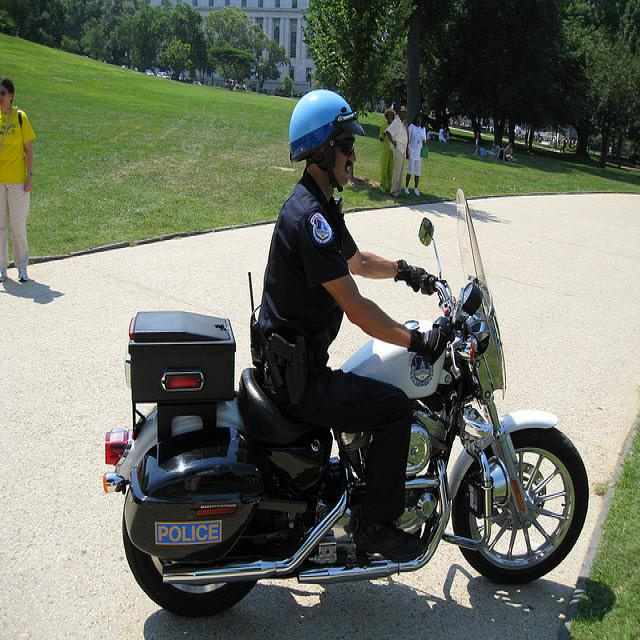motor: (99, 180, 595, 621)
